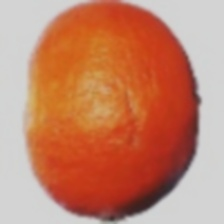tangerine: (34, 6, 210, 192)
